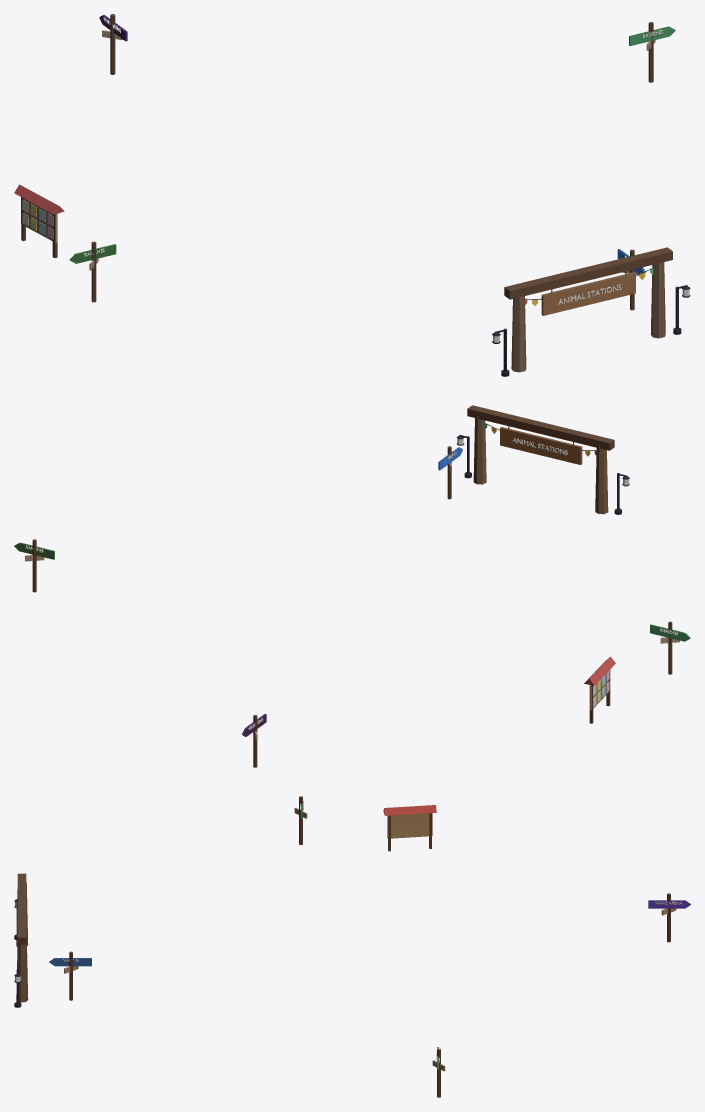
Rendered from hub_signs.fbx.
3 renders of one model, top to bottom at view 1: azimuth 30°, elevation 25°; view 2: azimuth 150°, elevation 25°; view 3: azimuth 270°, elevation 25°, orthographic. The views are drawn at different scales.
Parts seen in each view (by area): view 1: hub_signs_body; view 2: hub_signs_body; view 3: hub_signs_body.
Part boxes in pixels (<box>): hub_signs_body: <box>14,14,690,376</box>; hub_signs_body: <box>14,405,690,767</box>; hub_signs_body: <box>14,796,690,1097</box>.
Size of the model in its own units: 9312 by 1070 by 9822.
Materials: 2 (1 with a texture image).
